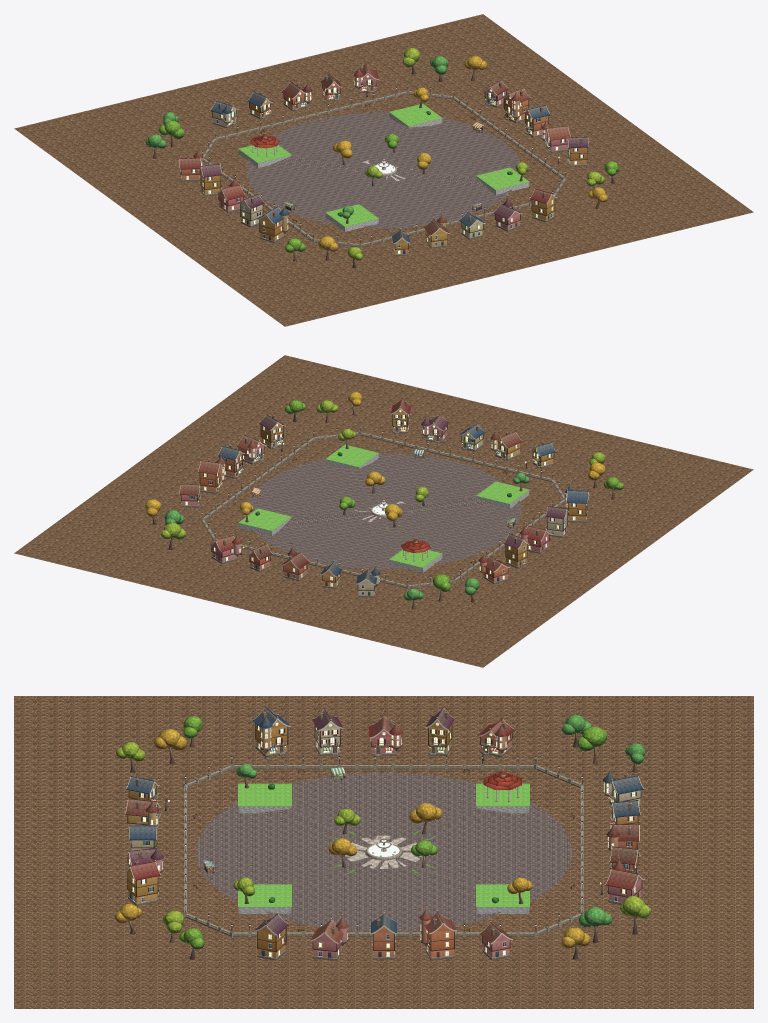
The model's file is praca-coreto.glb.
3 views of the same model, one above another, from view 1: azimuth 30°, elevation 25°; view 2: azimuth 150°, elevation 25°; view 3: azimuth 270°, elevation 25° (orthographic). The views are drawn at different scales.
Visible parts, largest first — view 1: arena_floor, arena_props, arena_platforms; view 2: arena_floor, arena_props, arena_platforms; view 3: arena_floor, arena_props, arena_platforms.
Part boxes in pixels (x1,y1,x2,y2): arena_floor: [14, 14, 753, 326]; arena_props: [145, 48, 619, 268]; arena_platforms: [238, 103, 529, 231]; arena_floor: [14, 355, 753, 667]; arena_props: [145, 392, 623, 609]; arena_platforms: [238, 444, 529, 572]; arena_floor: [14, 696, 753, 1008]; arena_props: [114, 706, 650, 960]; arena_platforms: [238, 783, 529, 913].
Size of the model in its own units: 224 by 16.59 by 224.
26 materials, 13 textured.
